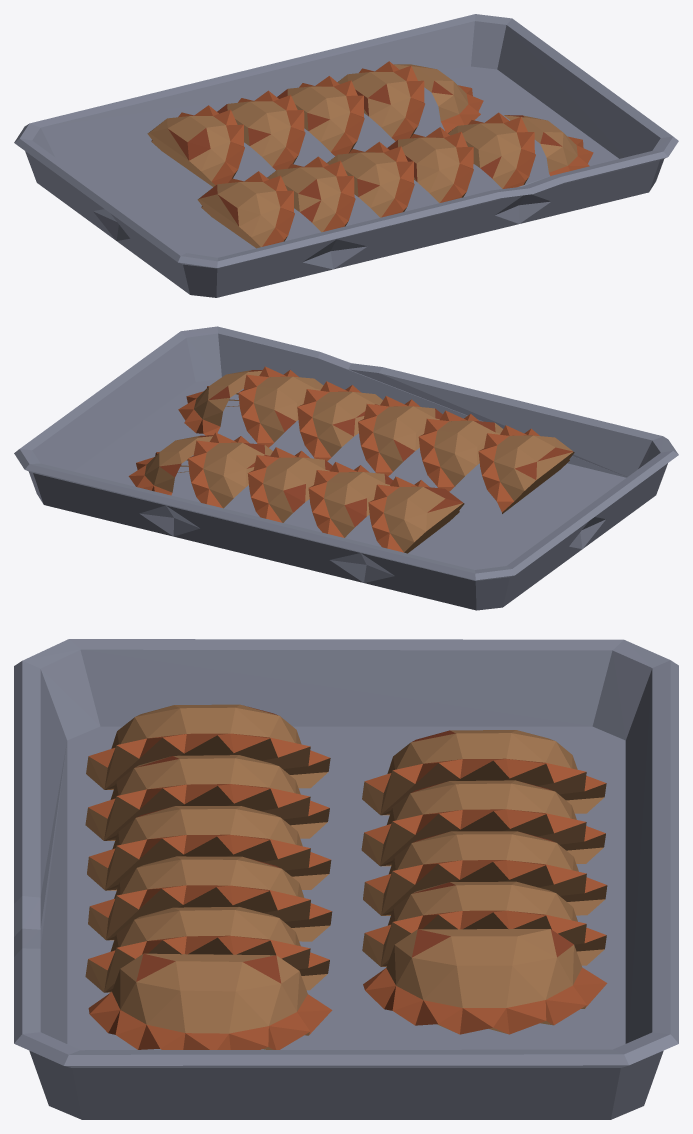
The model's file is tray-of-empanadas-de-676fc2.glb.
3 renders of one model, top to bottom at view 1: azimuth 30°, elevation 25°; view 2: azimuth 150°, elevation 25°; view 3: azimuth 270°, elevation 25°, orthographic. The views are drawn at different scales.
Parts seen in each view (by area): view 1: tray-of-empanadas; view 2: tray-of-empanadas; view 3: tray-of-empanadas.
Boxes of the visible parts, bbox=[...] form: tray-of-empanadas: bbox=[14, 14, 678, 297]; tray-of-empanadas: bbox=[14, 326, 678, 610]; tray-of-empanadas: bbox=[14, 639, 678, 1119].
Bounding box in the file's own units: 0.6 × 0.0677 × 0.4.
